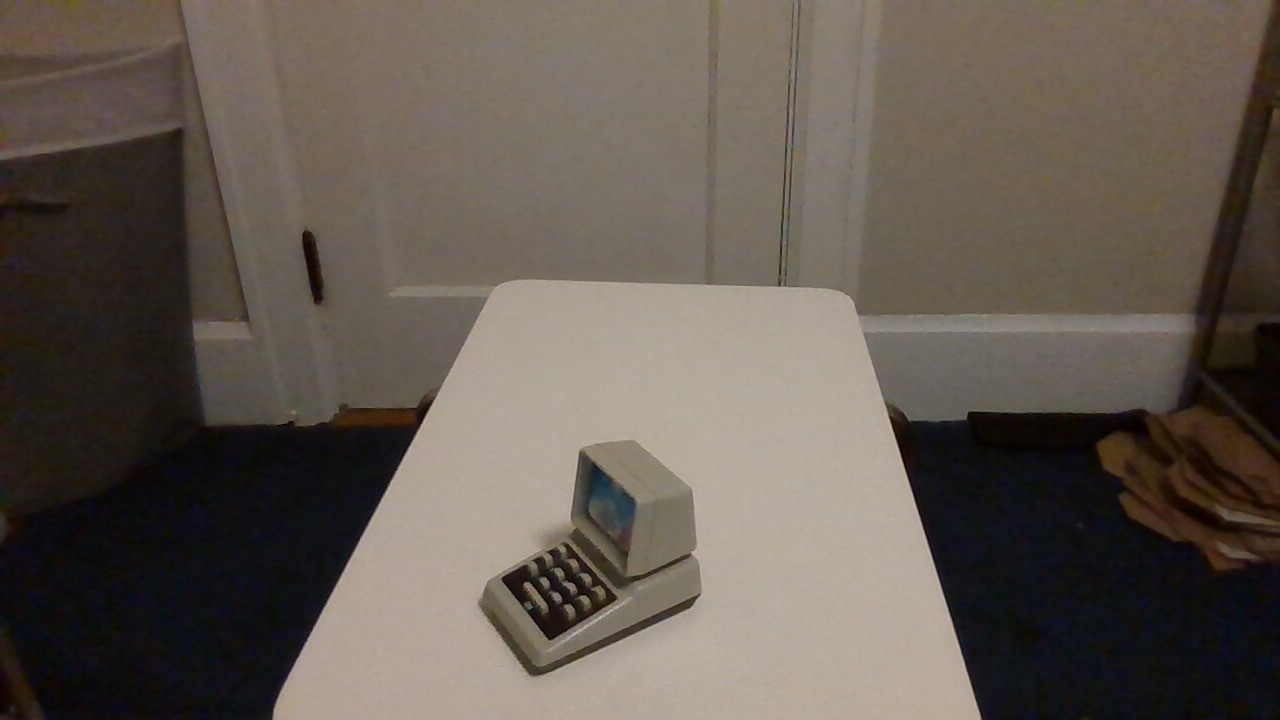Toy: (446, 420, 723, 680)
